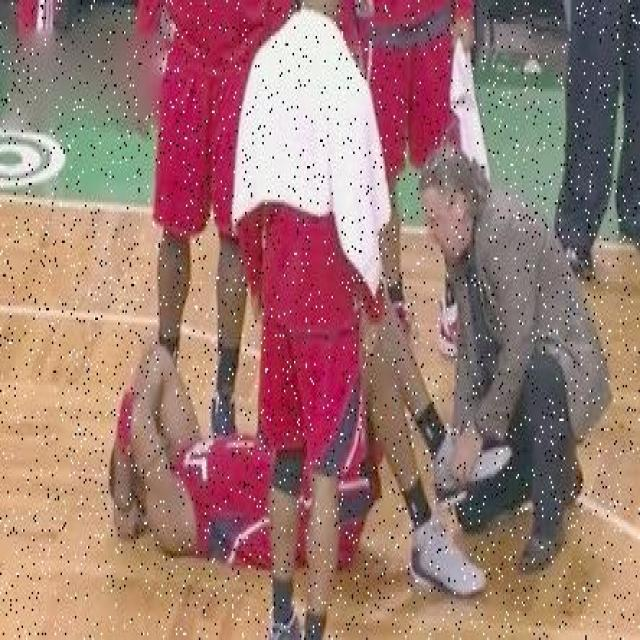fall: (106, 370, 498, 592)
